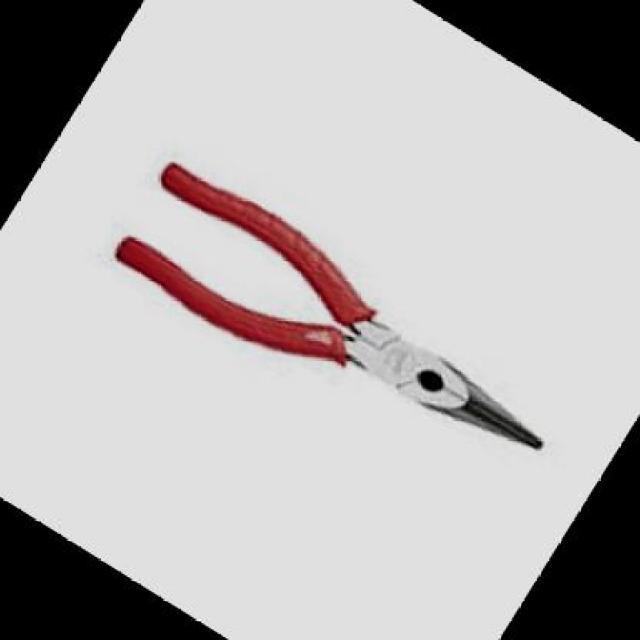pliers: (59, 95, 606, 531)
